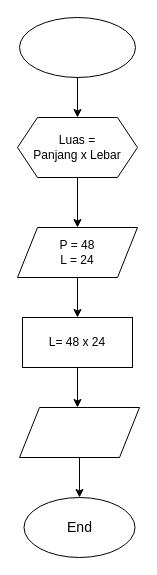
Some shapes in this 157 by 575 pixel diagram are drawn without their labels. Here are the shapes that lost their labels. From the top down, the box of each, then its label:
(18, 16, 136, 78): Start
(18, 406, 140, 458): L = 1.152
